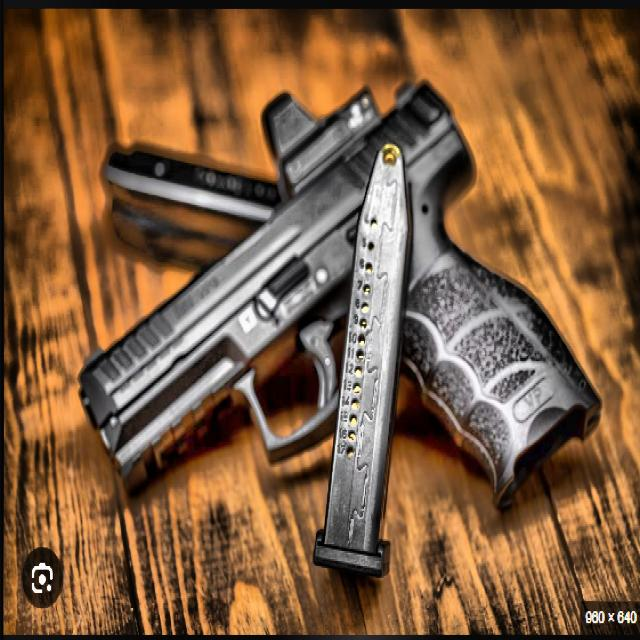HKVP9: (77, 76, 602, 576)
